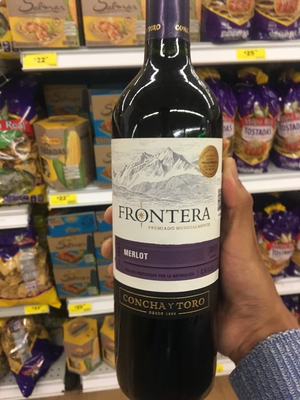frontera merlot: (98, 9, 240, 400)
